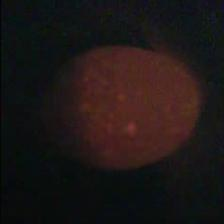fertile: (37, 40, 201, 172)
